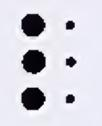one_cell_alphabet_lamang: (21, 13, 77, 110)
